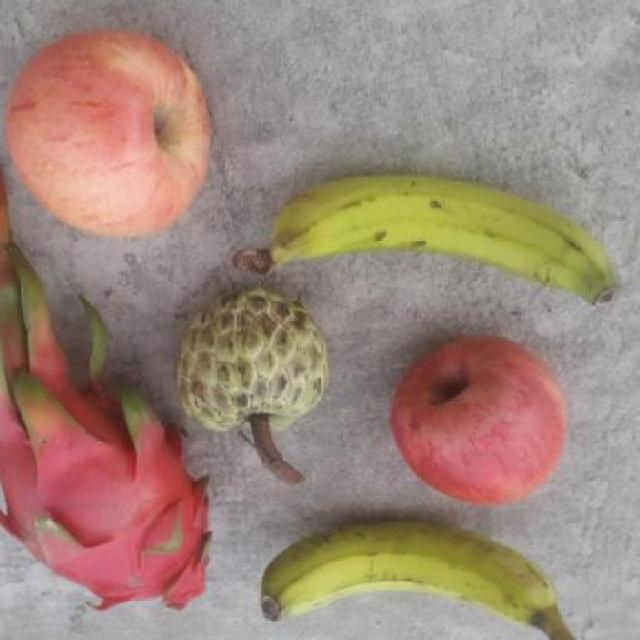apple: (2, 22, 226, 236), (384, 329, 578, 506)
banana: (245, 168, 621, 306), (254, 513, 588, 639)
dragon fruit: (0, 349, 215, 612)
sugar apple: (170, 280, 338, 446)
